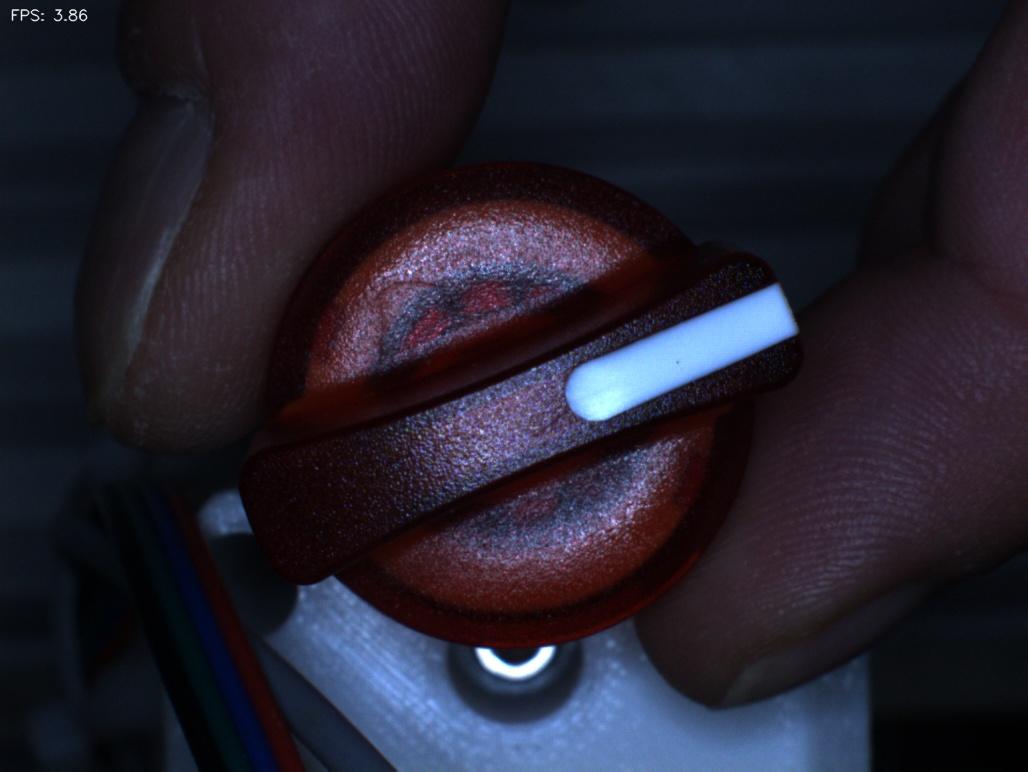PointNoir: (638, 334, 719, 401)
